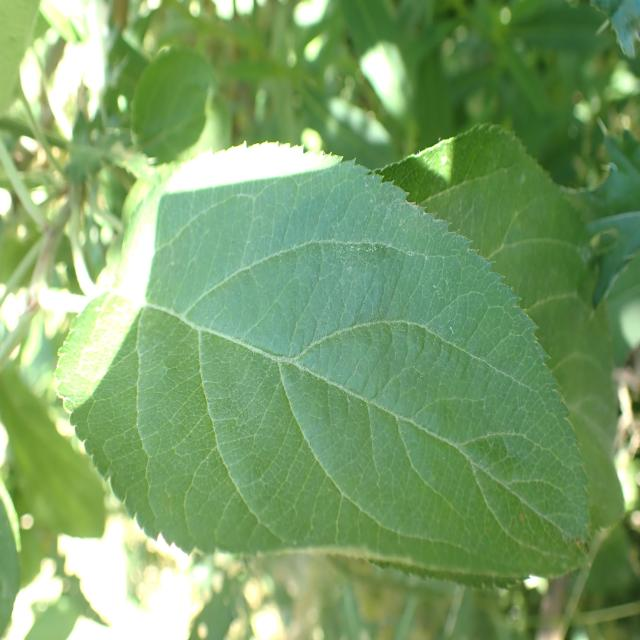healthy: (52, 138, 592, 592), (373, 123, 629, 534)
